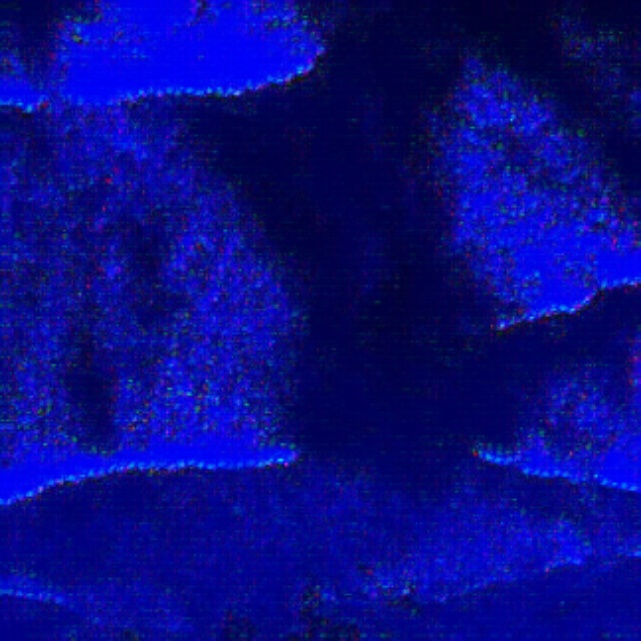rip_current: (155, 38, 523, 487)
